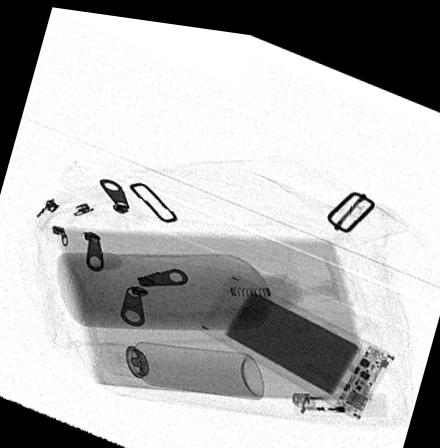Lighter: (290, 383, 389, 408)
Powerbank: (199, 265, 397, 411)
Sprayer: (98, 338, 264, 393)
